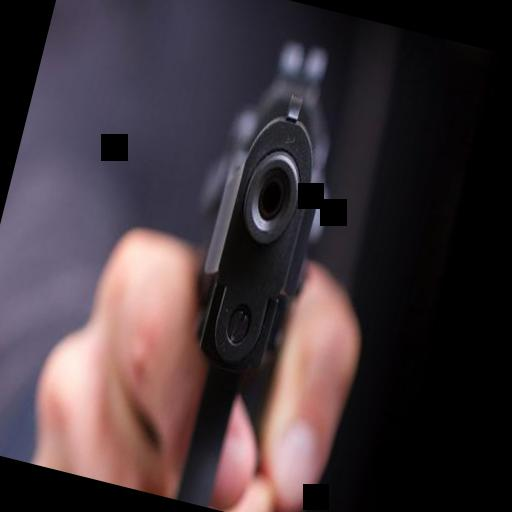Handgun: (133, 25, 369, 512)
